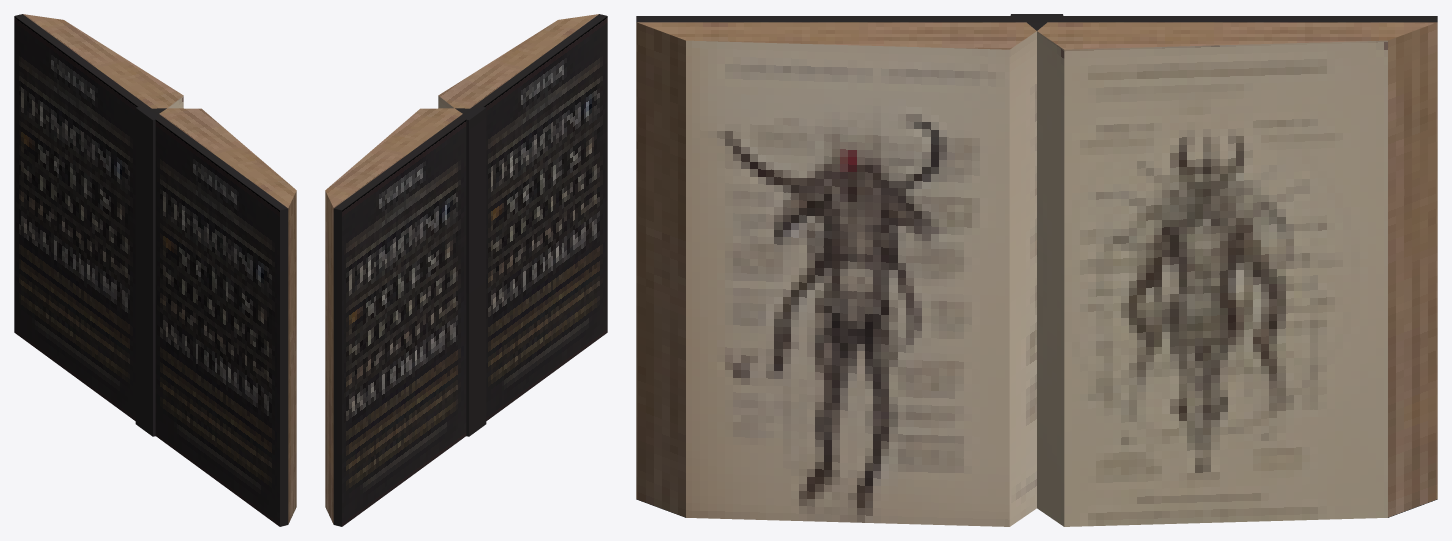
File: openbook1.glb
The picture shows the model from 3 angles, left to right: view 1: azimuth 30°, elevation 25°; view 2: azimuth 150°, elevation 25°; view 3: azimuth 270°, elevation 25°; orthographic projection. The views are drawn at different scales.
Parts seen in each view (by area): view 1: openbook1; view 2: openbook1; view 3: openbook1.
Boxes of the visible parts, x1=… form: openbook1: x1=14, y1=14, x2=296, y2=526; openbook1: x1=325, y1=14, x2=607, y2=526; openbook1: x1=636, y1=14, x2=1437, y2=526.
Size of the model in its own units: 0.0645 by 0.4017 by 0.6111.
Materials: 1 (1 with a texture image).
